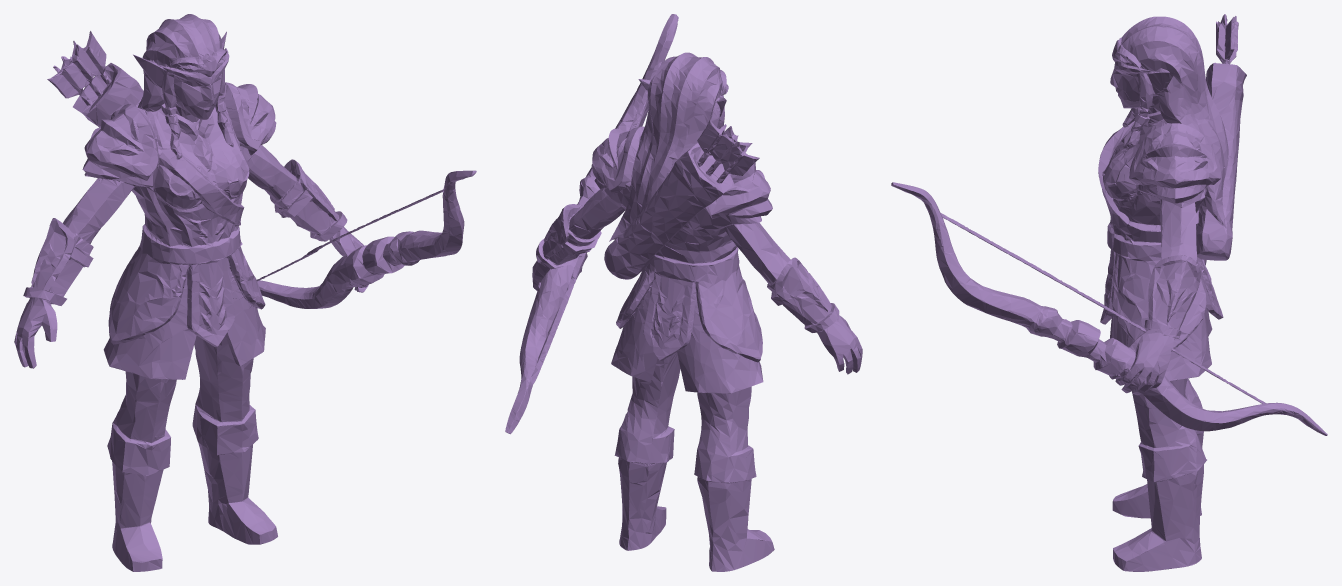
Rendered from elf_archer_drive.glb.
The picture shows the model from 3 angles, left to right: view 1: azimuth 30°, elevation 25°; view 2: azimuth 150°, elevation 25°; view 3: azimuth 270°, elevation 25°; orthographic projection. The views are drawn at different scales.
Parts seen in each view (by area): view 1: world; view 2: world; view 3: world.
Boxes of the visible parts, x1,y1,x2,y2 form: world: (14,14,476,571); world: (505,14,862,571); world: (891,14,1327,571).
Size of the model in its own units: 1.34 by 1.9 by 1.46.
